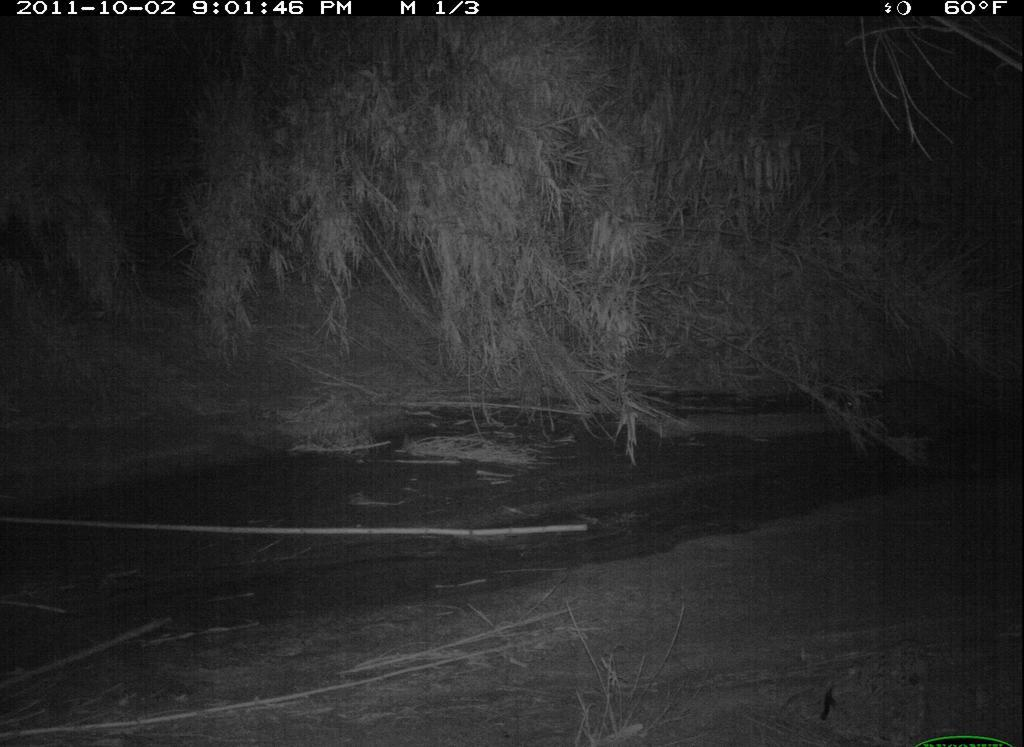raccoon: (836, 370, 987, 449)
